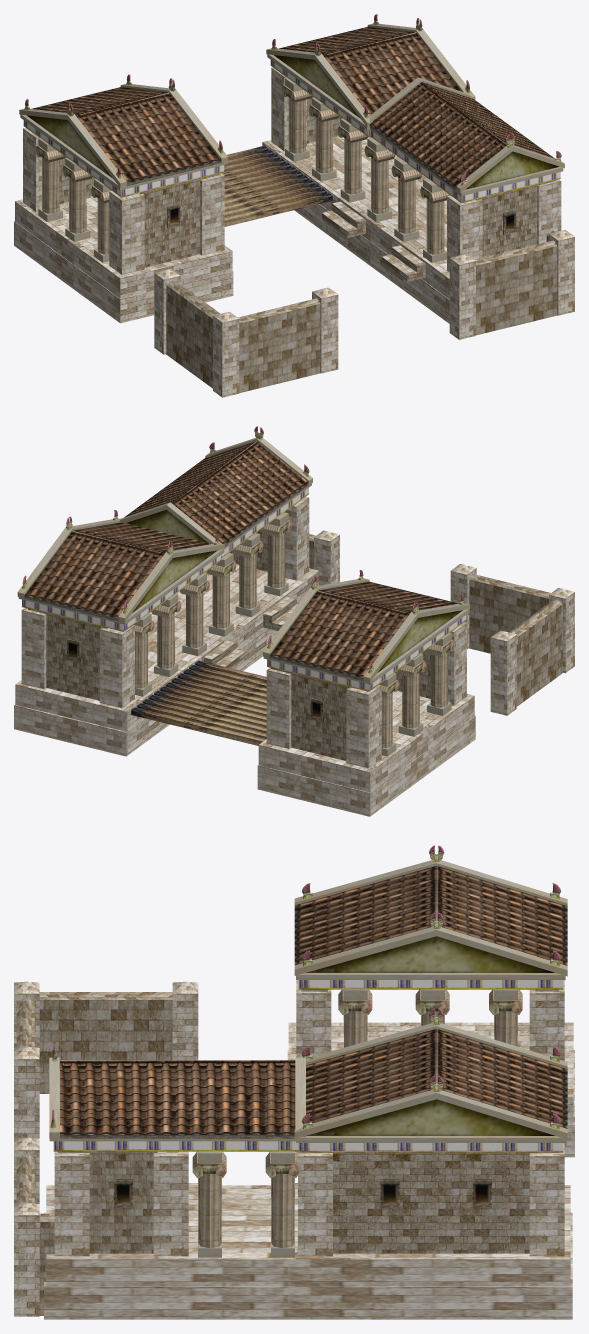
The model's file is arsenal.dae.
The picture shows the model from 3 angles, top to bottom: view 1: azimuth 30°, elevation 25°; view 2: azimuth 150°, elevation 25°; view 3: azimuth 270°, elevation 25°; orthographic projection. The views are drawn at different scales.
Parts seen in each view (by area): view 1: arsenal; view 2: arsenal; view 3: arsenal.
Boxes of the visible parts, x1,y1,x2,y2 form: arsenal: (14, 14, 574, 397); arsenal: (14, 426, 574, 816); arsenal: (14, 845, 574, 1319).
Size of the model in its own units: 25.16 by 25.16 by 12.
